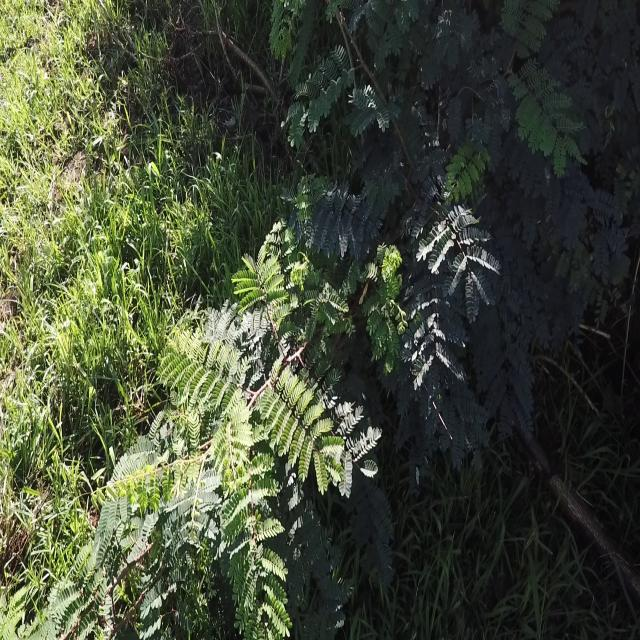Mysore-Thorn-Weed: (270, 0, 639, 463), (58, 241, 403, 627)
